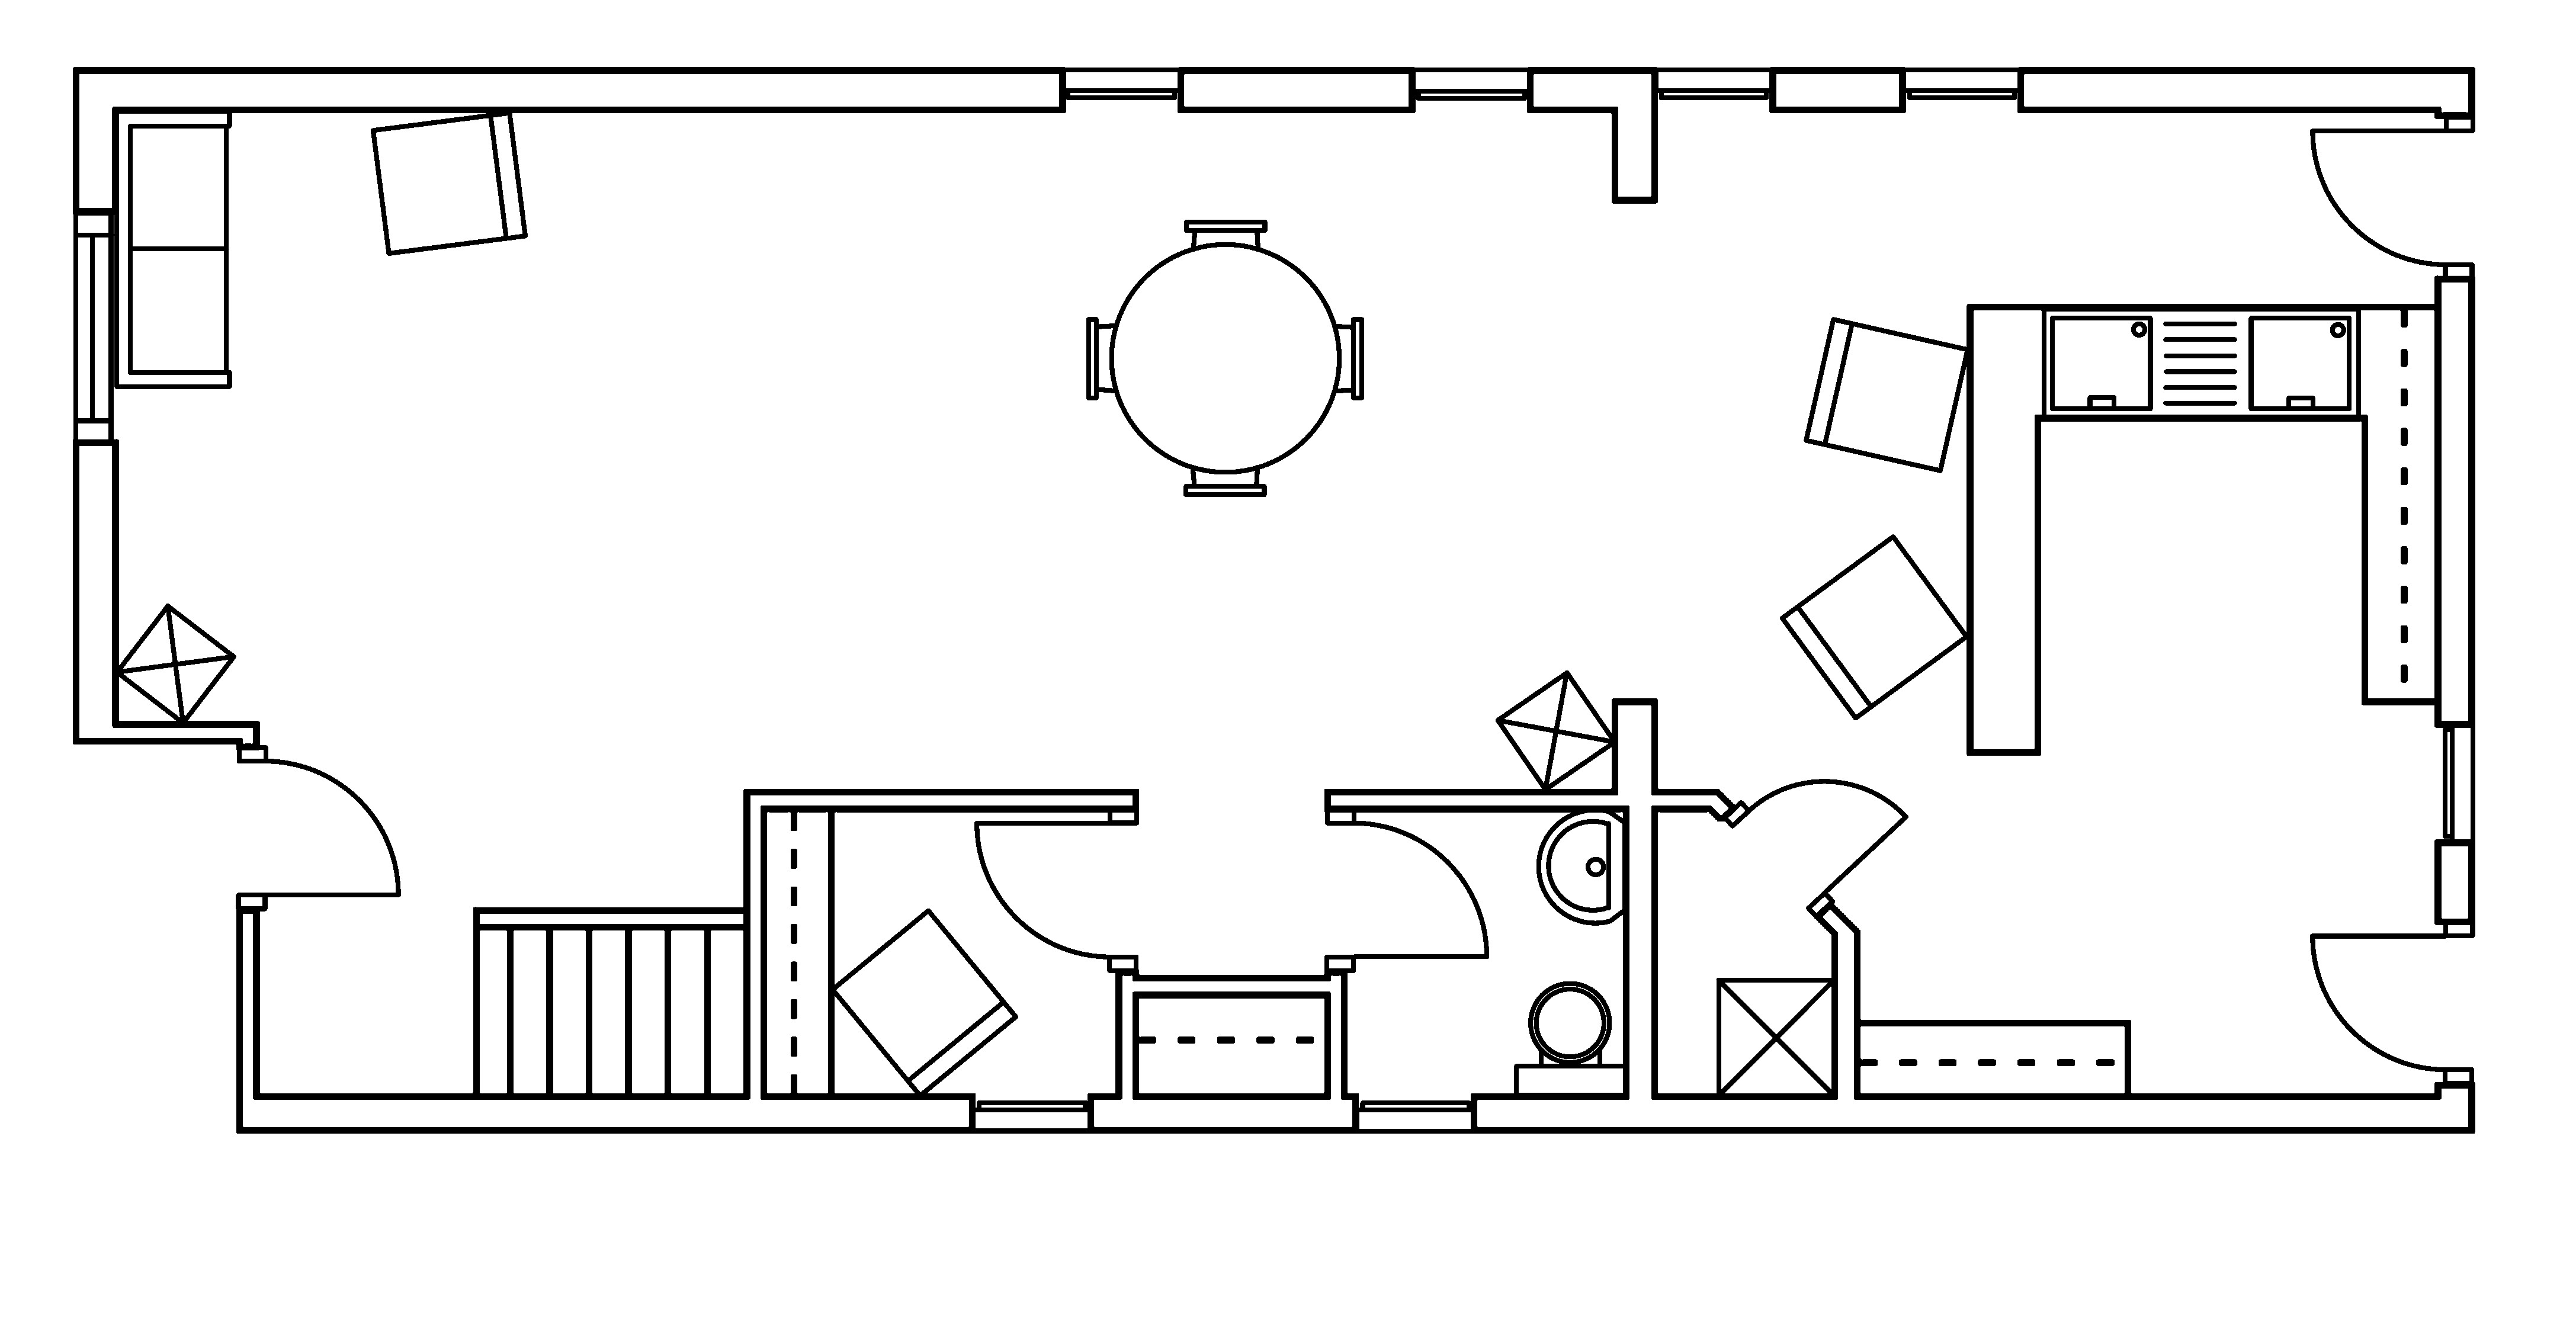coffee_table: (113, 602, 237, 725), (1493, 670, 1618, 792), (1715, 976, 1836, 1099)
large_sink: (1513, 981, 1628, 1097)
large_sofa: (113, 108, 232, 389)
round_table: (1085, 219, 1364, 496)
small_sink: (1535, 808, 1628, 925)
small_sofa: (829, 907, 1019, 1099), (1779, 533, 1969, 720), (1803, 316, 1971, 473), (370, 109, 528, 256)
twin_sink: (2040, 305, 2361, 421)
